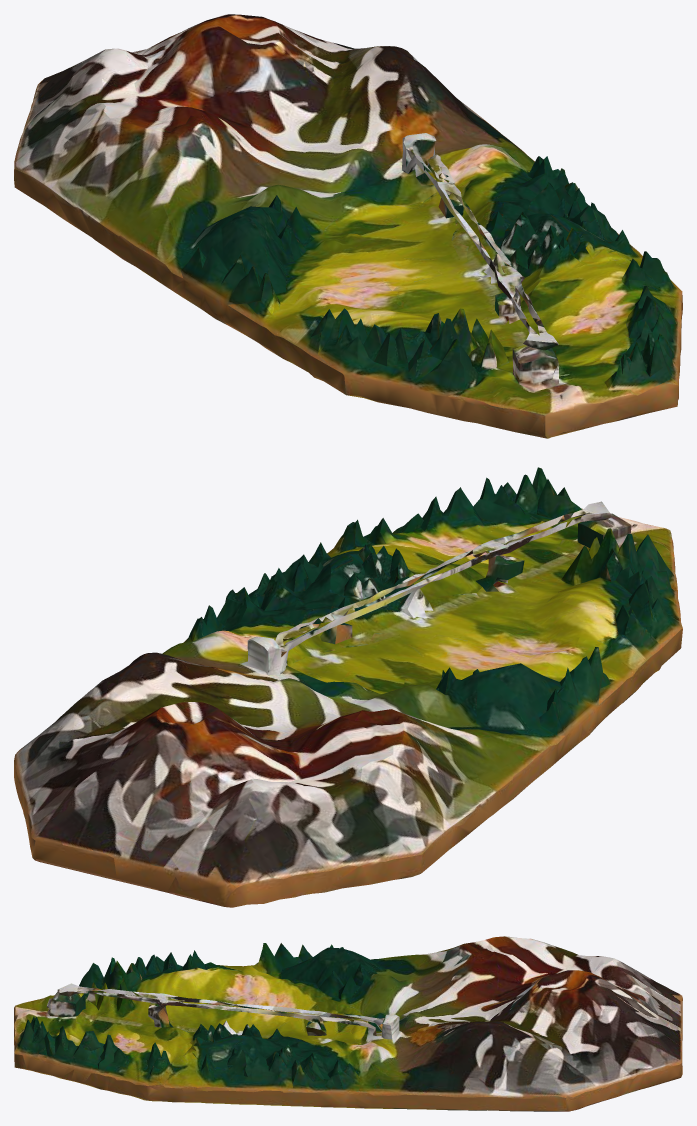
The model's file is daisetsuzan.glb.
3 views of the same model, one above another, from view 1: azimuth 30°, elevation 25°; view 2: azimuth 150°, elevation 25°; view 3: azimuth 270°, elevation 25° (orthographic). The views are drawn at different scales.
Visible parts, largest first — view 1: logan-textured.obj; view 2: logan-textured.obj; view 3: logan-textured.obj.
Boxes of the visible parts, x1,y1,x2,y2 form: logan-textured.obj: [14, 14, 682, 438]; logan-textured.obj: [14, 467, 682, 907]; logan-textured.obj: [14, 936, 682, 1111].
Size of the model in its own units: 0.4939 by 0.1255 by 1.
Materials: 1 (1 with a texture image).
